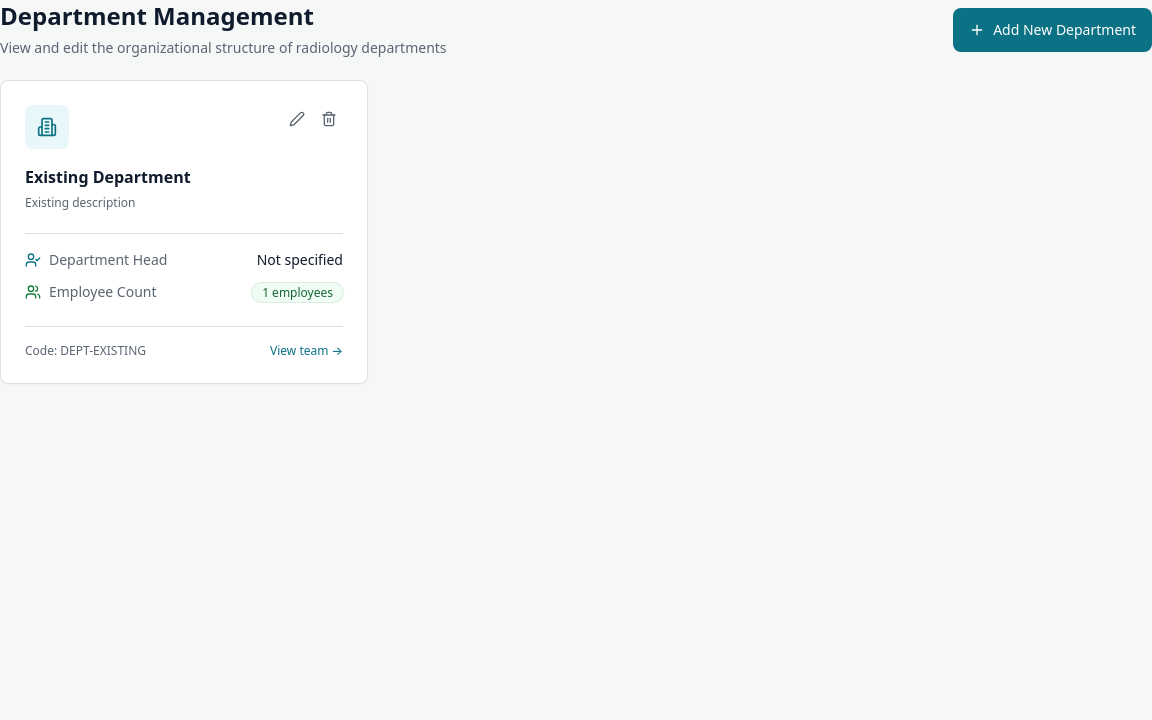
it: DepartmentsPage › creates a department with an empty description, refreshes bootstrap, and shows it immediately
The image size is (1152, 720).
Click the button "Add New Department".
click(1053, 30)  # box [953, 8, 1151, 52]
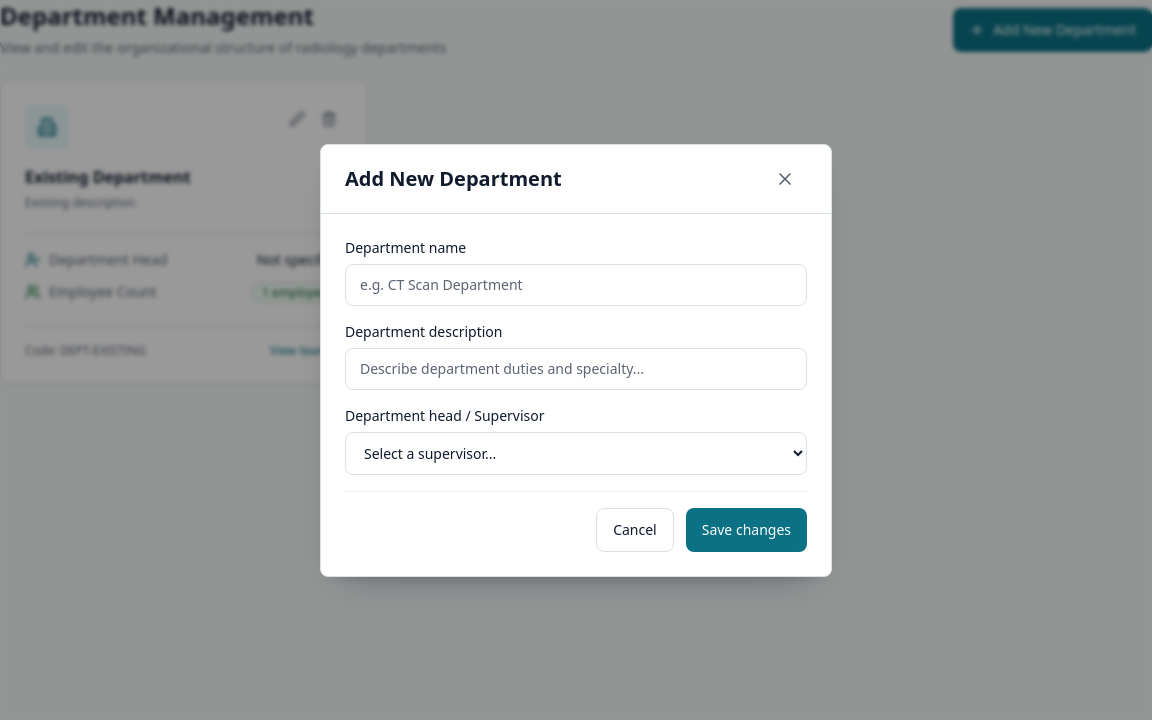
Type "Interventional CT" into the field labelled "Department name".
click(576, 284); type("Interventional CT")  # box [345, 264, 807, 306]
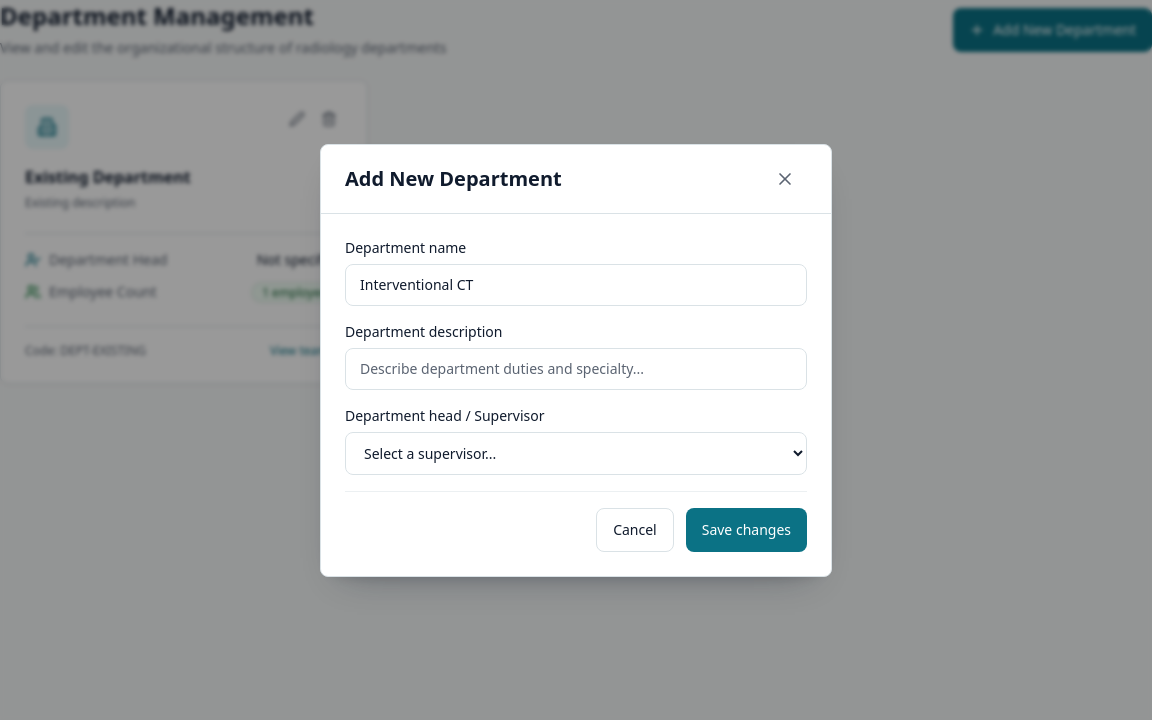
Click the button "Save changes".
click(746, 530)  # box [686, 508, 807, 552]
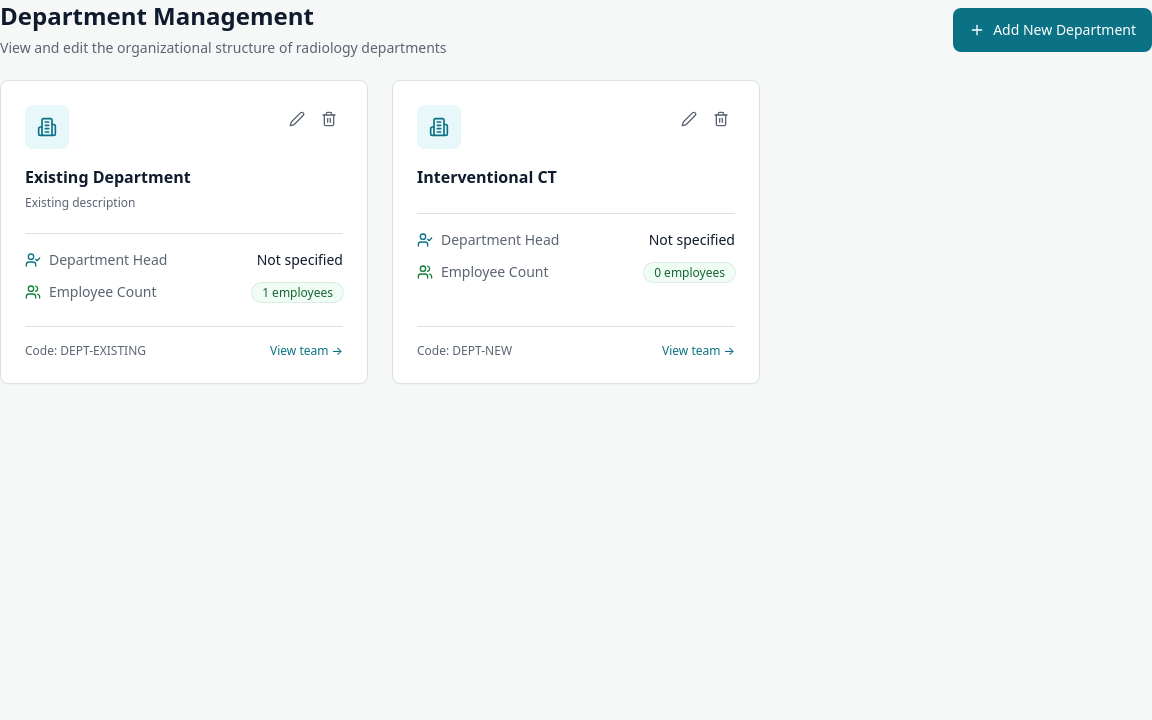
Expected: the heading "Interventional CT" is shown, [417, 166, 557, 188]
